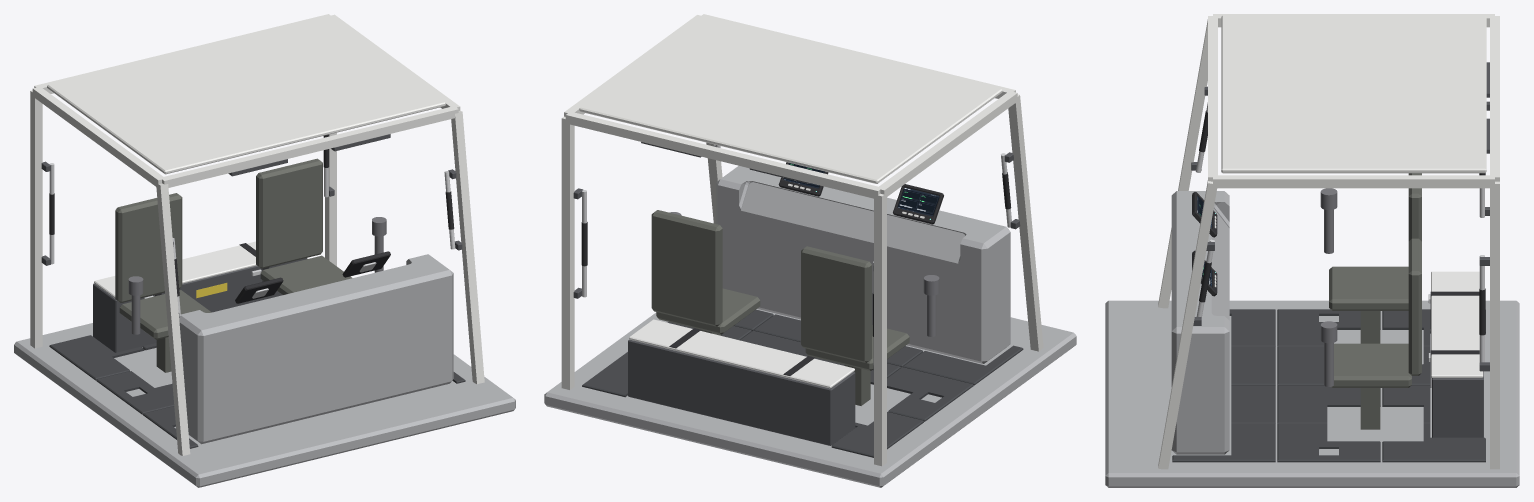
Rendered from ax_rover_03_open_station_cutaway.glb.
3 renders of one model, left to right at view 1: azimuth 30°, elevation 25°; view 2: azimuth 150°, elevation 25°; view 3: azimuth 270°, elevation 25°, orthographic. The views are drawn at different scales.
Visible parts, largest first — view 1: ext_console, ext_sunshade_radiator, ext_deck_plate, ext_roll_cage, ext_seat_2, ext_seat_1, rack_tool_stowage_body, rack_tool_stowage_lid, floor_tile_09, floor_tile_05, ext_hand_controller_1, floor_tile_01 (+2 smaller); view 2: ext_sunshade_radiator, ext_console, ext_roll_cage, ext_deck_plate, rack_tool_stowage_body, ext_seat_2, ext_seat_1, rack_tool_stowage_lid, floor_tile_05, floor_tile_01, floor_tile_09, floor_tile_12 (+5 smaller); view 3: ext_sunshade_radiator, ext_deck_plate, ext_roll_cage, ext_console, ext_seat_2, ext_seat_1, rack_tool_stowage_lid, rack_tool_stowage_body, floor_tile_08, floor_tile_12, floor_tile_07, floor_tile_04 (+9 smaller).
Part boxes in pixels (x1,y1,x2,y2): ext_console: (179, 254, 453, 444); ext_sunshade_radiator: (47, 16, 445, 174); ext_deck_plate: (14, 323, 515, 487); ext_roll_cage: (30, 14, 484, 455); ext_seat_2: (256, 158, 352, 294); ext_seat_1: (115, 193, 211, 372); rack_tool_stowage_body: (93, 258, 307, 352); rack_tool_stowage_lid: (94, 241, 256, 297); floor_tile_09: (49, 335, 144, 380); floor_tile_05: (96, 371, 174, 414); ext_hand_controller_1: (128, 276, 143, 334); floor_tile_01: (143, 406, 198, 448); ext_sunshade_radiator: (579, 17, 1002, 183); ext_console: (716, 166, 1010, 363); ext_roll_cage: (561, 14, 1043, 466); ext_deck_plate: (544, 309, 1076, 487); rack_tool_stowage_body: (628, 339, 855, 445); ext_seat_2: (651, 210, 760, 335); ext_seat_1: (801, 246, 909, 405); rack_tool_stowage_lid: (629, 319, 854, 388); floor_tile_05: (887, 367, 973, 421); floor_tile_01: (903, 345, 1023, 385); floor_tile_09: (831, 412, 923, 457); floor_tile_12: (582, 352, 627, 397); ext_sunshade_radiator: (1221, 15, 1486, 173); ext_deck_plate: (1105, 300, 1519, 487); ext_roll_cage: (1158, 14, 1499, 469); ext_console: (1171, 191, 1229, 454); ext_seat_2: (1331, 238, 1421, 429); ext_seat_1: (1329, 173, 1421, 343); rack_tool_stowage_lid: (1431, 271, 1483, 377); rack_tool_stowage_body: (1432, 371, 1483, 437); floor_tile_08: (1277, 423, 1380, 462); floor_tile_12: (1382, 423, 1485, 462); floor_tile_07: (1277, 385, 1380, 423); floor_tile_04: (1172, 423, 1275, 462).
Bounding box in the file's own units: 2.5 × 2.12 × 2.5.
16 materials, 1 textured.
